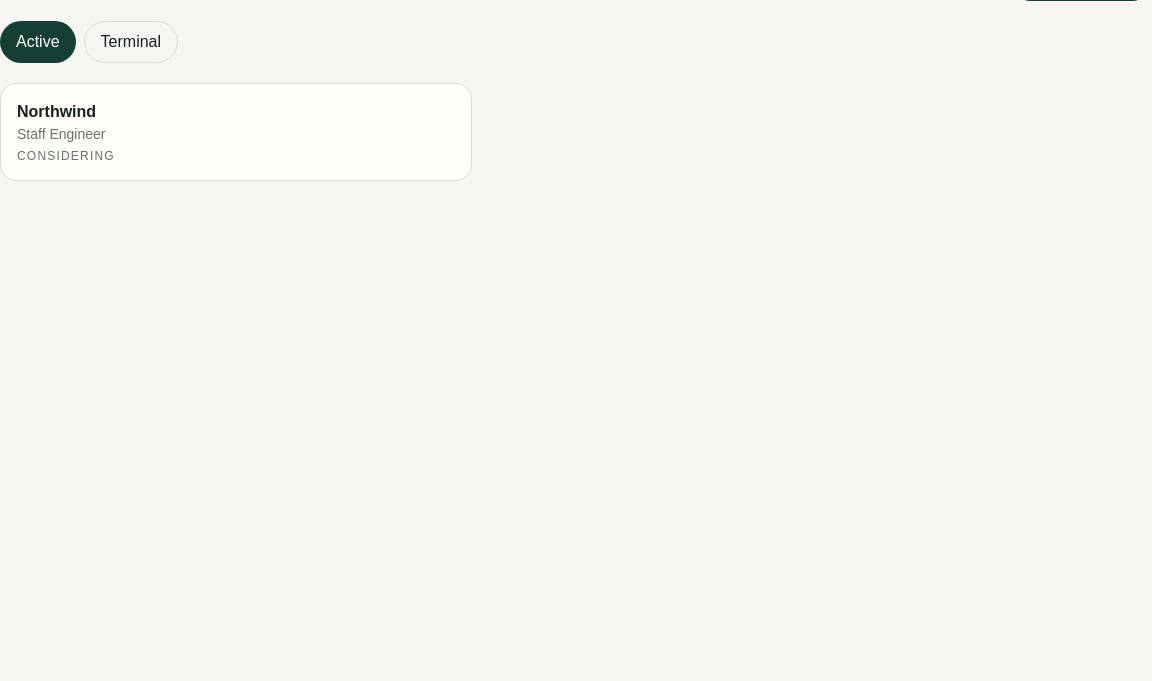
ApplicationsView › shows recent practice sessions associated with the selected opportunity
Click the button "Northwind Staff Engineer considering" at (57, 112), box [0,83,472,181]
(page scrolled)
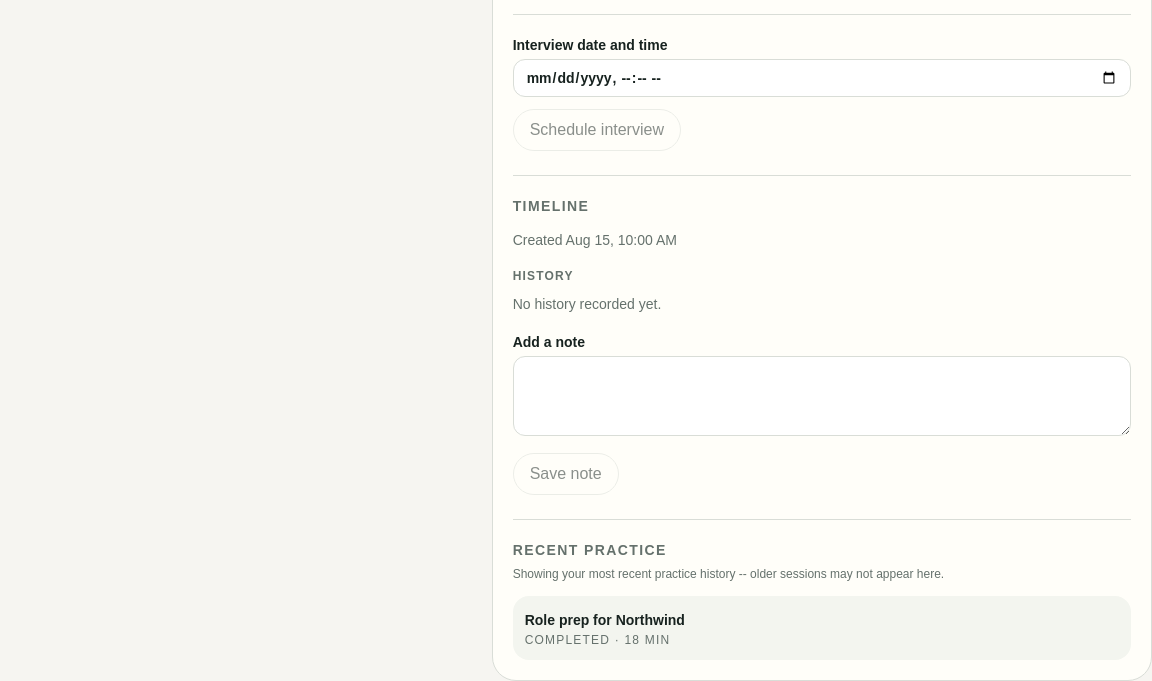
Expected: the text "Role prep for Northwind" is shown, [525,612,685,628]
